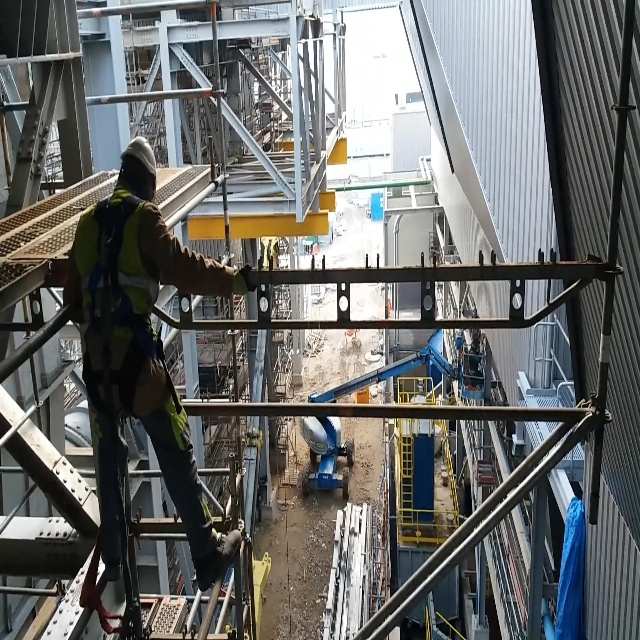Arnes_seguridad: (77, 168, 161, 433)
